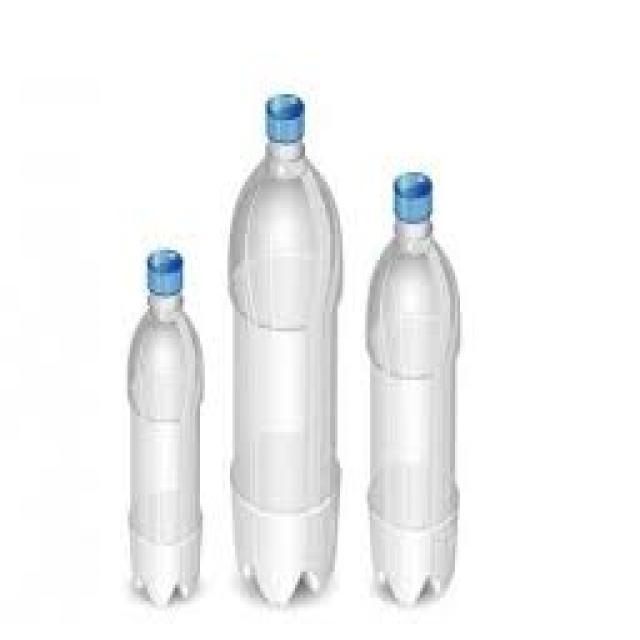Plastic: (224, 92, 342, 608), (364, 167, 463, 608), (128, 250, 202, 606)
